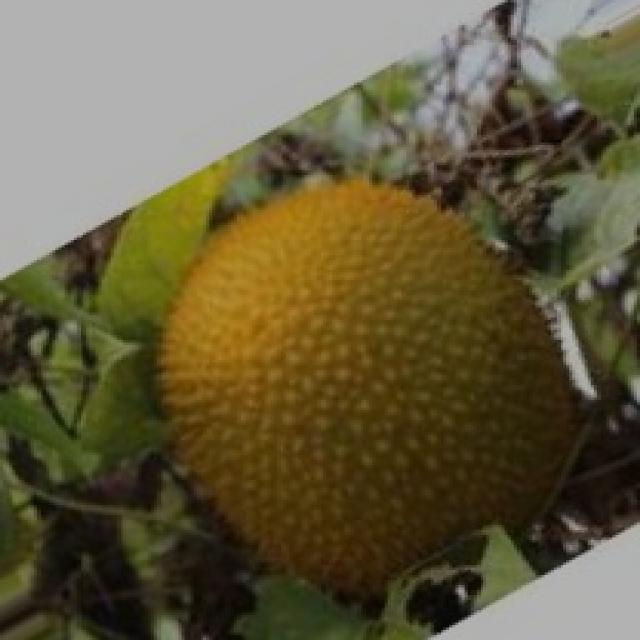Fruit: (172, 128, 631, 438)
